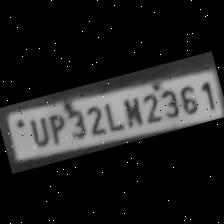1: (193, 76, 220, 113)
2: (80, 100, 108, 138), (136, 88, 164, 124)
3: (62, 105, 89, 142), (156, 84, 182, 120)
6: (172, 80, 202, 116)
L: (99, 98, 123, 134)
N: (116, 92, 144, 130)
P: (42, 108, 70, 146)
U: (24, 112, 52, 148)
